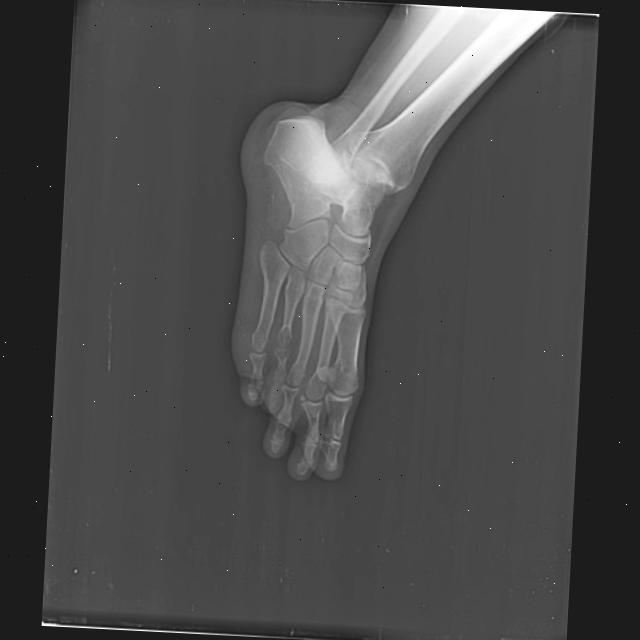Fracture: (270, 320, 299, 363)
